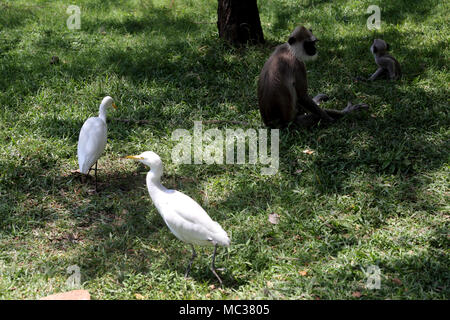monkey: (253, 23, 370, 140), (363, 37, 416, 87)
